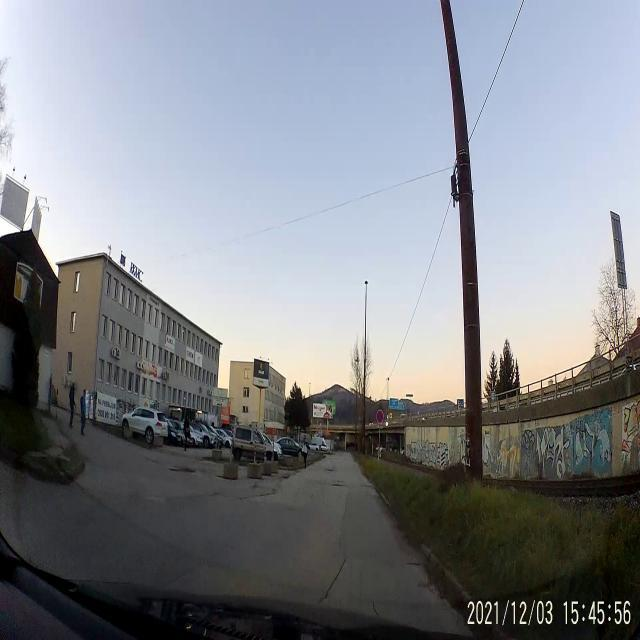Pothole: (166, 467, 198, 475), (322, 463, 338, 476), (328, 480, 345, 492)
